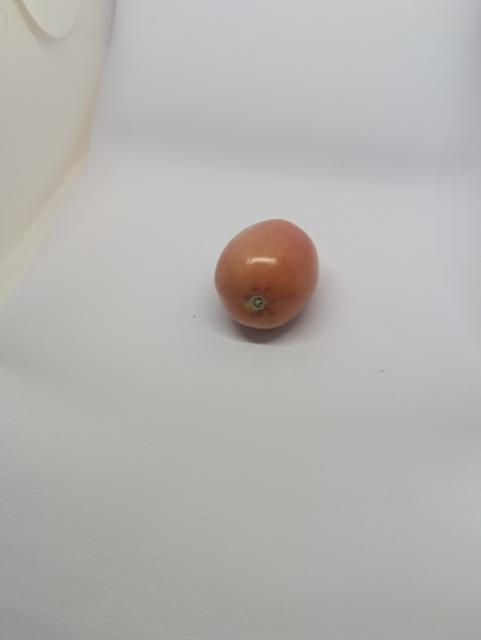red: (211, 208, 325, 338)
